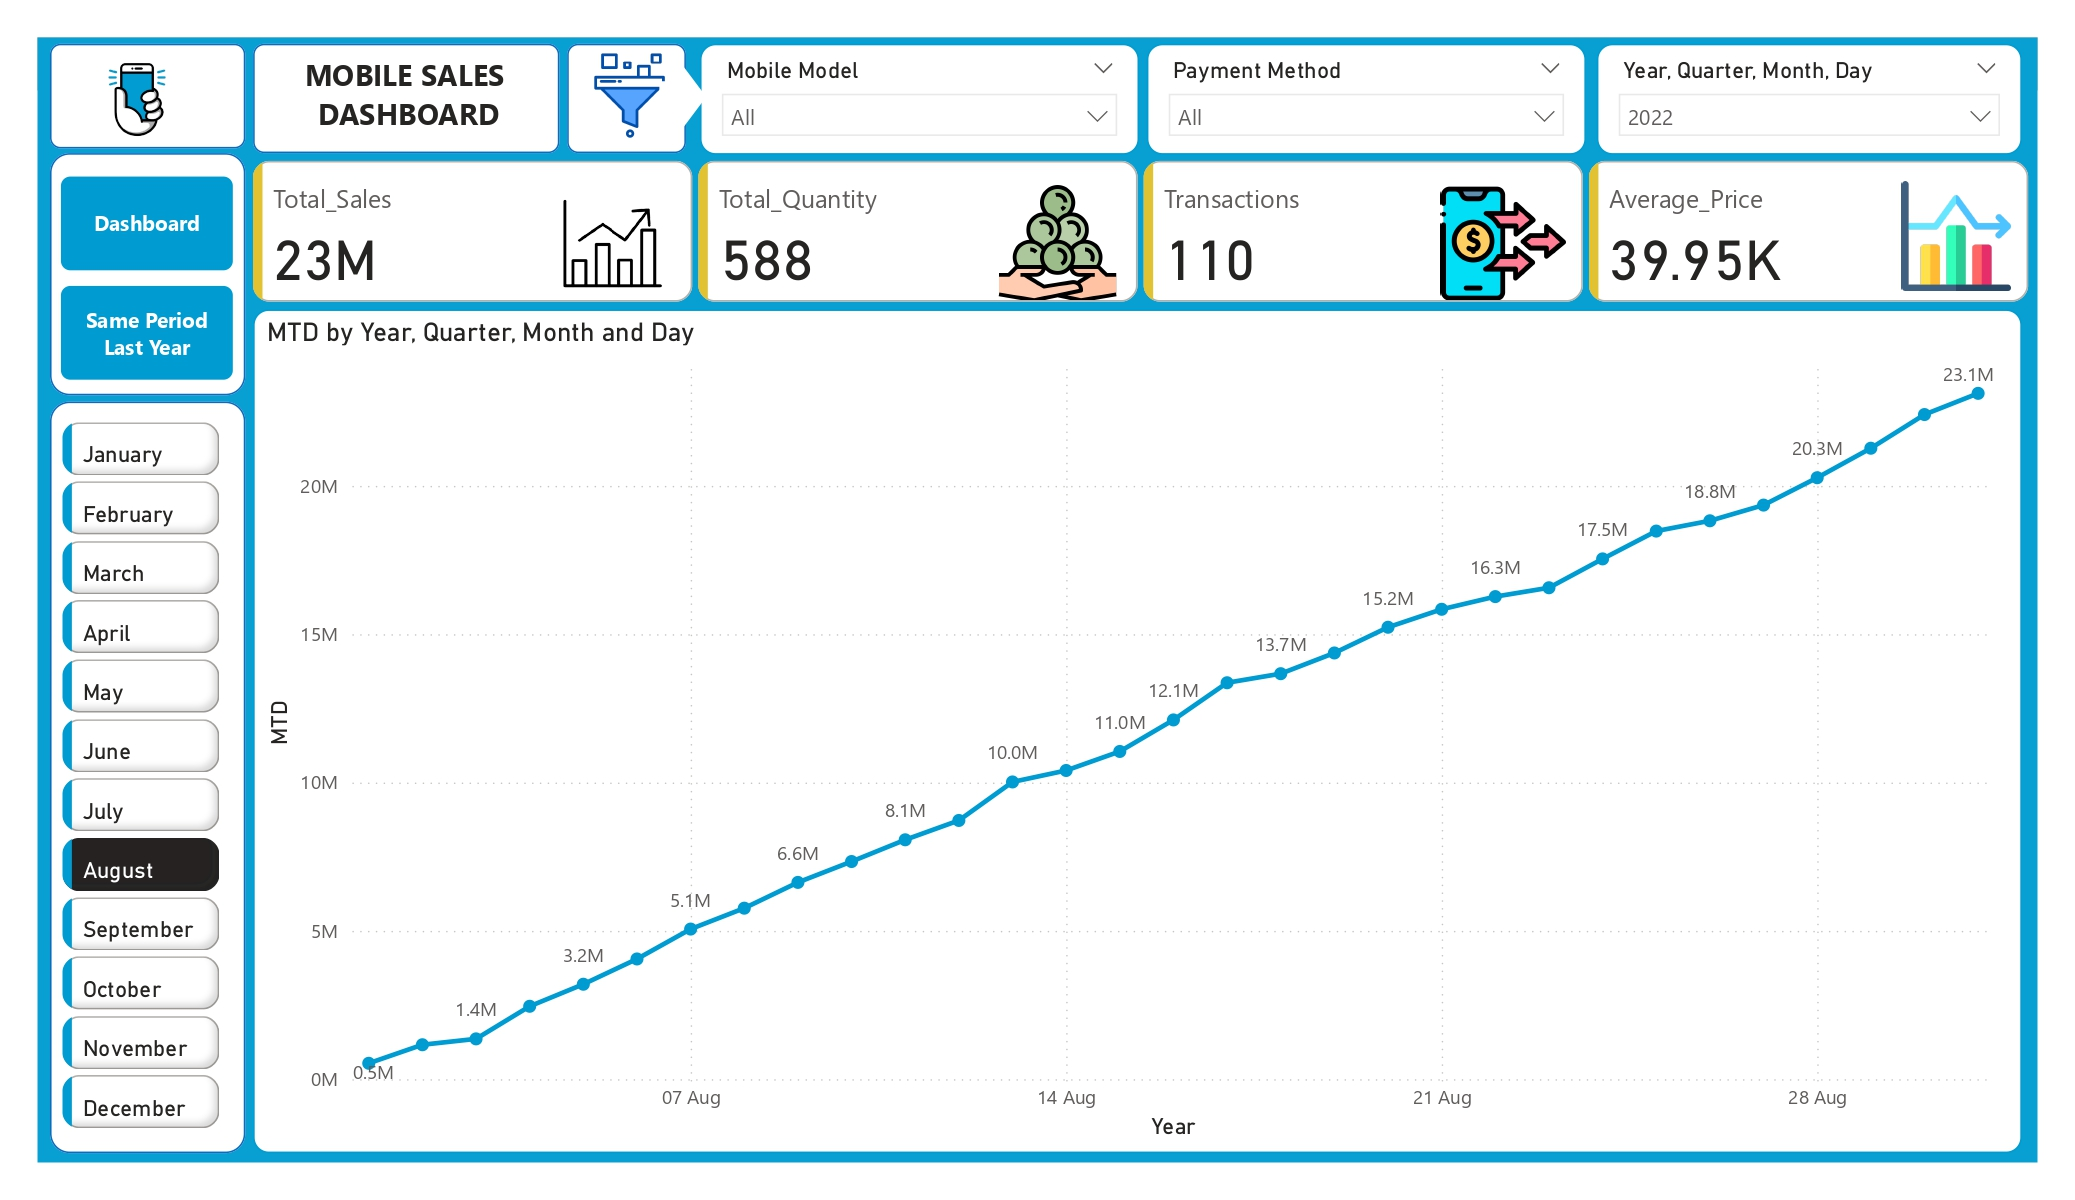

This screenshot's page, from the dashboard's own definition file:
{"tool":"powerbi","page":{"name":"MTD Report","canvas":[1280,720],"ordinal":1},"visuals":[{"type":"shape","box":[7.5,3.8,125,67.5],"z":0},{"type":"image","box":[23.8,3.8,78.8,71.2],"z":1000},{"type":"shape","box":[7.5,73.8,125,155],"z":2000},{"type":"cardVisual","fields":{"Data":["Sales_Data.Total_Sales","Sales_Data.Total_Quantity","Sales_Data.Transactions","Sales_Data.Average_Price"]},"box":[132.5,73.8,1147.5,100],"z":3000},{"type":"slicer","fields":{"Values":["Sales_Data.Mobile Model"]},"box":[423.8,3.8,281.2,71.2],"z":4000},{"type":"slicer","fields":{"Values":["Sales_Data.Payment Method"]},"box":[710,3.8,281.2,71.2],"z":5000},{"type":"slicer","fields":{"Values":["Custom_Calendar.Date.Variation.Date Hierarchy.Year","Custom_Calendar.Date.Variation.Date Hierarchy.Quarter","Custom_Calendar.Date.Variation.Date Hierarchy.Month","Custom_Calendar.Date.Variation.Date Hierarchy.Day"]},"box":[997.5,3.8,272.5,71.2],"z":6000},{"type":"shape","box":[338.8,3.8,76.2,70],"z":7000},{"type":"image","box":[337.5,3.8,81.2,66.2],"z":8000},{"type":"shape","box":[397.5,17.5,30,40],"z":9000},{"type":"shape","box":[137.5,3.8,196.2,70],"z":10000},{"type":"textbox","box":[156.2,6.2,162.5,63.8],"z":11000},{"type":"lineChart","fields":{"Y":["Sales_Data.MTD"],"Category":["Custom_Calendar.Date.Variation.Date Hierarchy.Year","Custom_Calendar.Date.Variation.Date Hierarchy.Quarter","Custom_Calendar.Date.Variation.Date Hierarchy.Month","Custom_Calendar.Date.Variation.Date Hierarchy.Day"]},"box":[137.5,173.8,1132.5,540],"z":12000},{"type":"shape","box":[7.5,232.5,125,481.2],"z":13000},{"type":"advancedSlicerVisual","fields":{"Values":["Custom_Calendar.Date.Variation.Date Hierarchy.Month"]},"box":[11.2,241.2,110,472.5],"z":14000},{"type":"pageNavigator","box":[15,88.8,110,130],"z":15000}]}

Visuals, with their boxes on the page's 1280x720 design canvas (x1, y1, x2, y2). These are canvas units, not pixel positions in the 2075x1200 screenshot, which may show the page scaled, cropped or inside an application window:
shape: <box>8,4,132,71</box>
image: <box>24,4,103,75</box>
shape: <box>8,74,132,229</box>
cardVisual - Sales_Data.Total_Sales x Sales_Data.Total_Quantity: <box>132,74,1280,174</box>
slicer - Sales_Data.Mobile Model: <box>424,4,705,75</box>
slicer - Sales_Data.Payment Method: <box>710,4,991,75</box>
slicer - Custom_Calendar.Date.Variation.Date Hierarchy.Year x Custom_Calendar.Date.Variation.Date Hierarchy.Quarter: <box>998,4,1270,75</box>
shape: <box>339,4,415,74</box>
image: <box>338,4,419,70</box>
shape: <box>398,18,428,58</box>
shape: <box>138,4,334,74</box>
textbox: <box>156,6,319,70</box>
lineChart - Sales_Data.MTD x Custom_Calendar.Date.Variation.Date Hierarchy.Year: <box>138,174,1270,714</box>
shape: <box>8,232,132,714</box>
advancedSlicerVisual - Custom_Calendar.Date.Variation.Date Hierarchy.Month: <box>11,241,121,714</box>
pageNavigator: <box>15,89,125,219</box>
